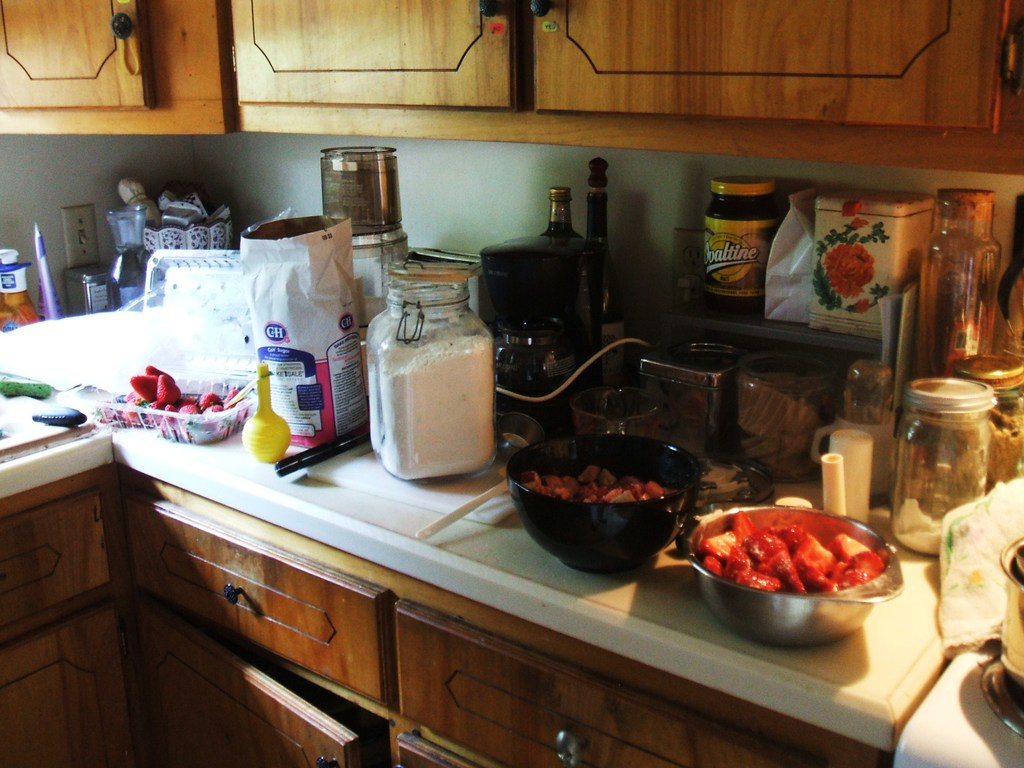Cabinetry: (1, 282, 1023, 767), (0, 0, 1023, 171)
